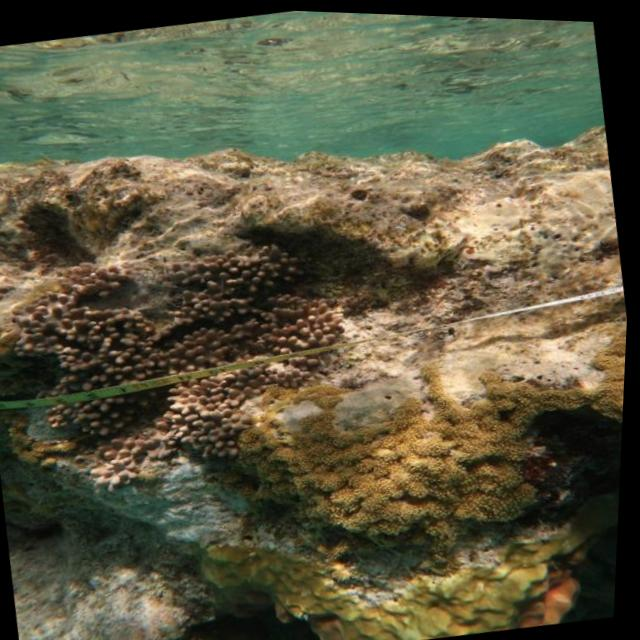Healthy Coral: (244, 350, 567, 567), (589, 324, 629, 435)
